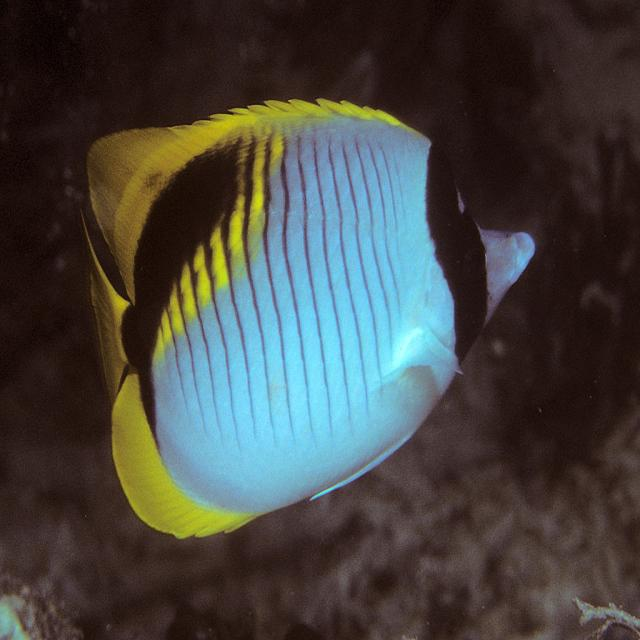ButterflyFish: (76, 96, 540, 538)
